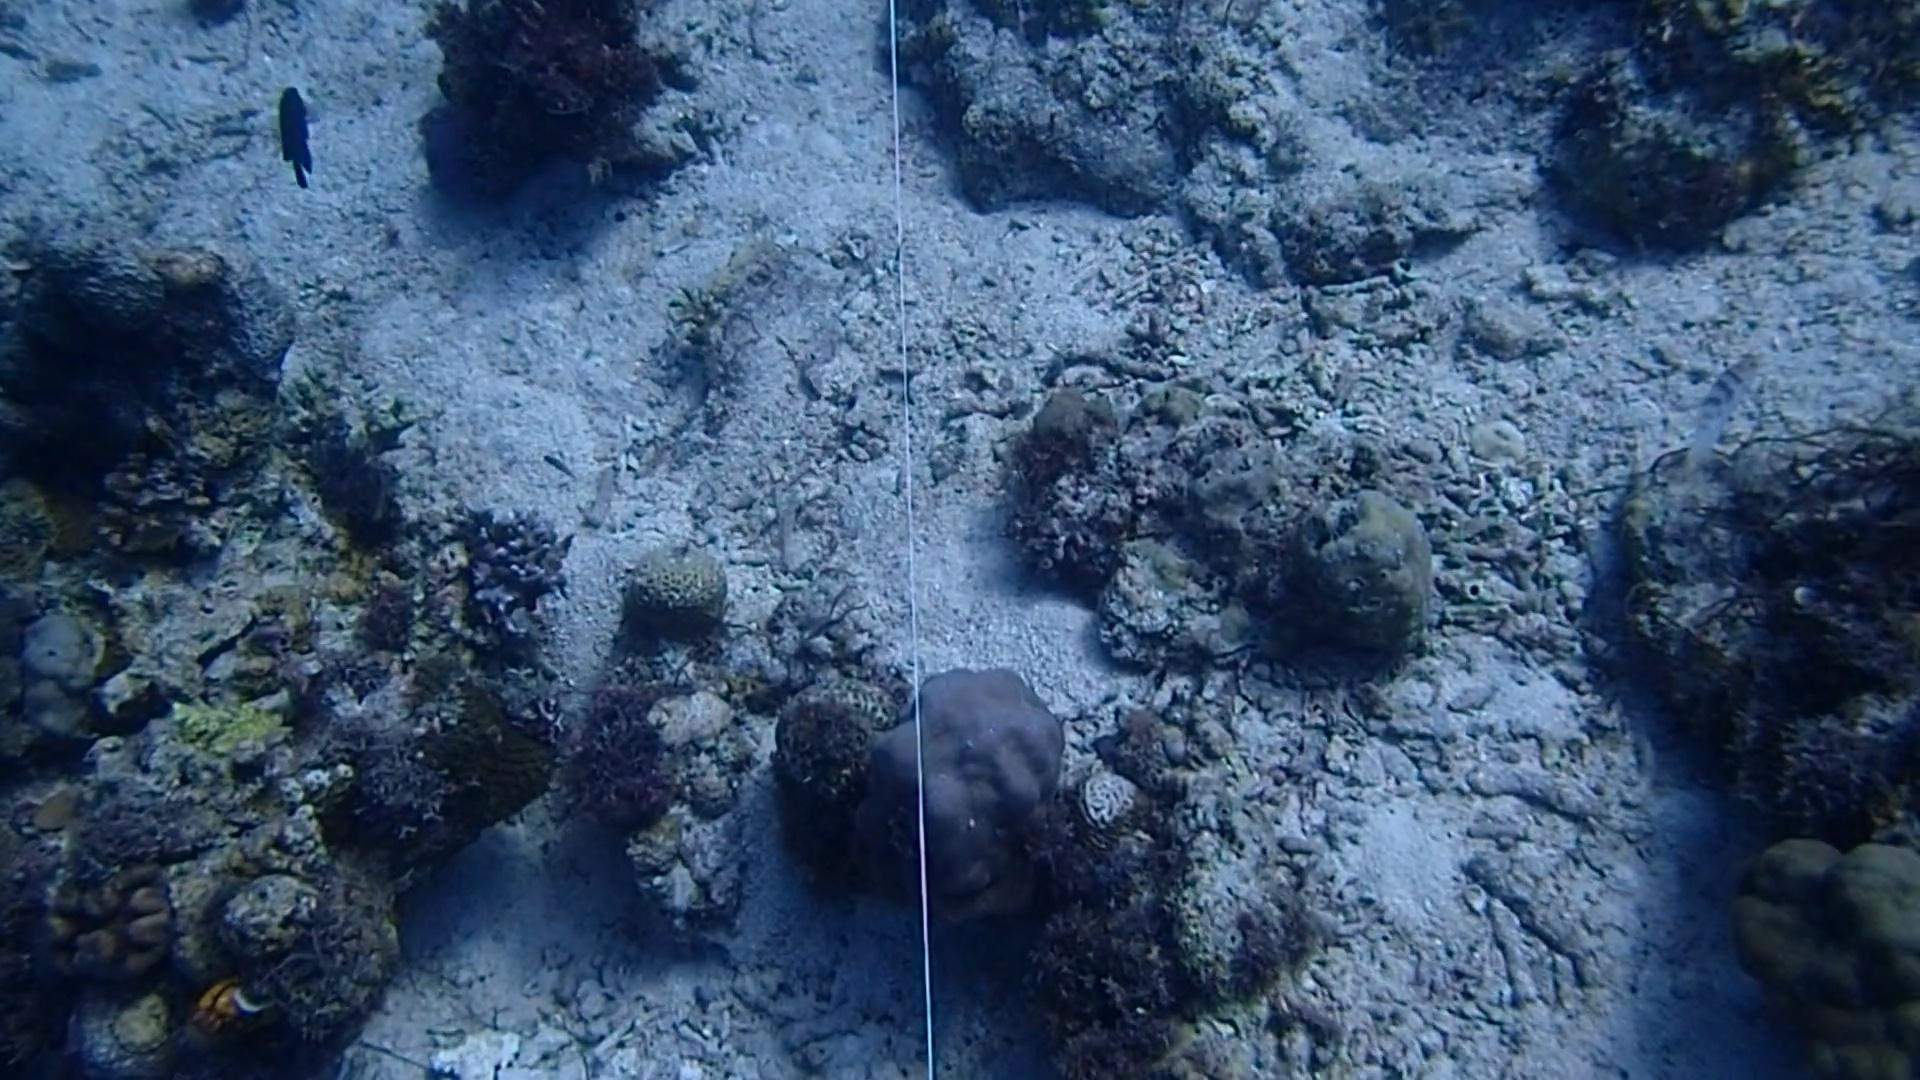Dark Fish: (257, 73, 330, 194)
Light Fish w Back Stripes: (1673, 336, 1783, 479)
